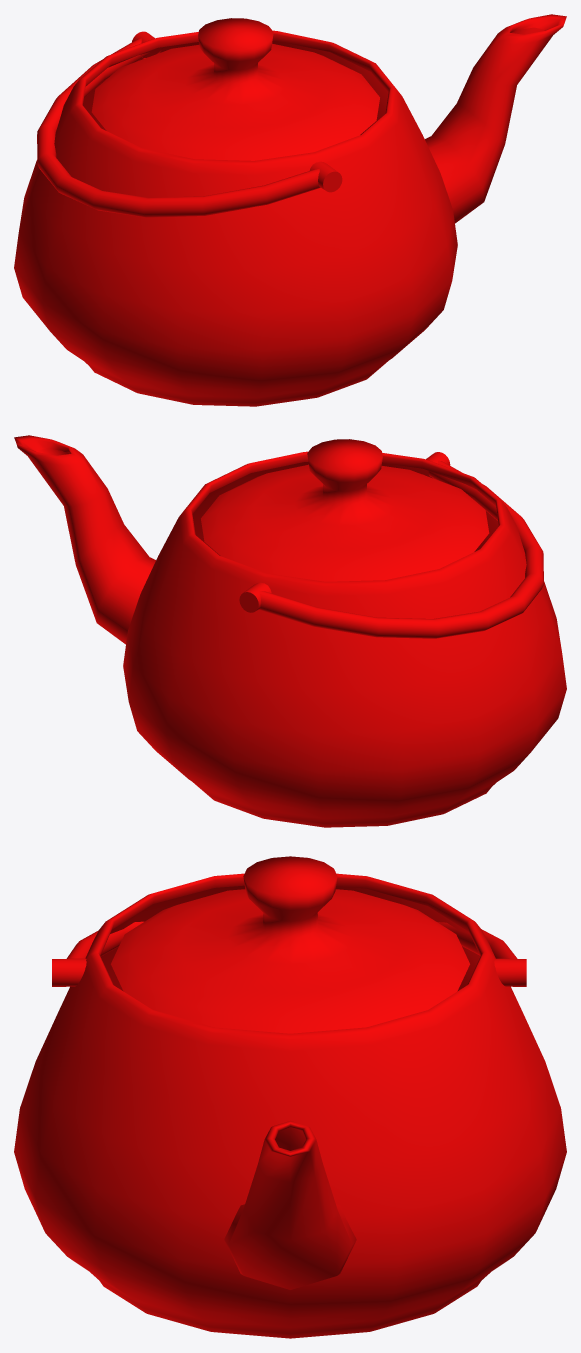
Rendered from theiere.FBX.
3 renders of one model, top to bottom at view 1: azimuth 30°, elevation 25°; view 2: azimuth 150°, elevation 25°; view 3: azimuth 270°, elevation 25°, orthographic. The views are drawn at different scales.
Visible parts, largest first — view 1: Theière; view 2: Theière; view 3: Theière.
Part boxes in pixels (box(x1,y1,x2,y2)): Theière: box(14, 14, 566, 406); Theière: box(14, 435, 566, 827); Theière: box(14, 856, 566, 1338).
Bounding box in the file's own units: 8.3 × 6.12 × 4.82.
